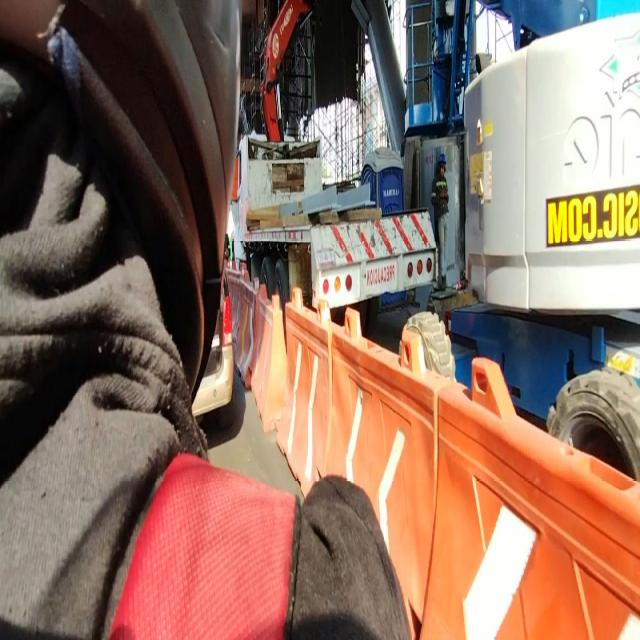adult: (431, 151, 450, 294)
